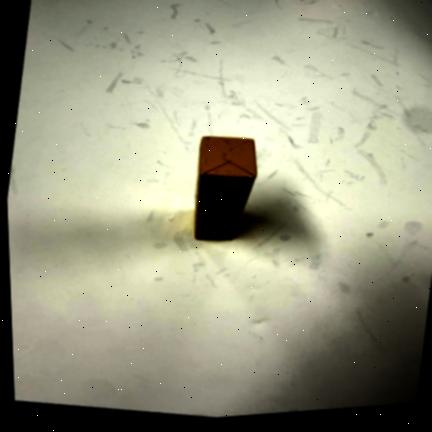gum_yellow: (194, 137, 257, 240)
